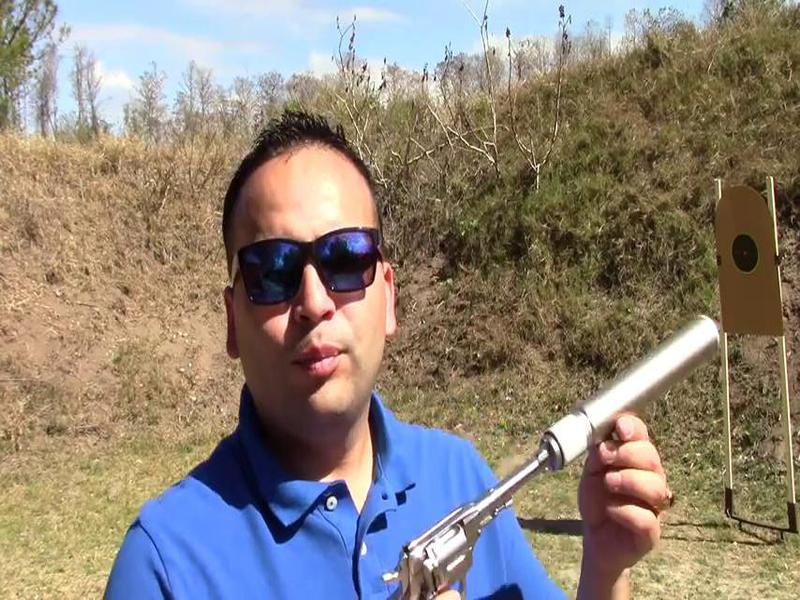Revolver: (383, 423, 555, 600)
